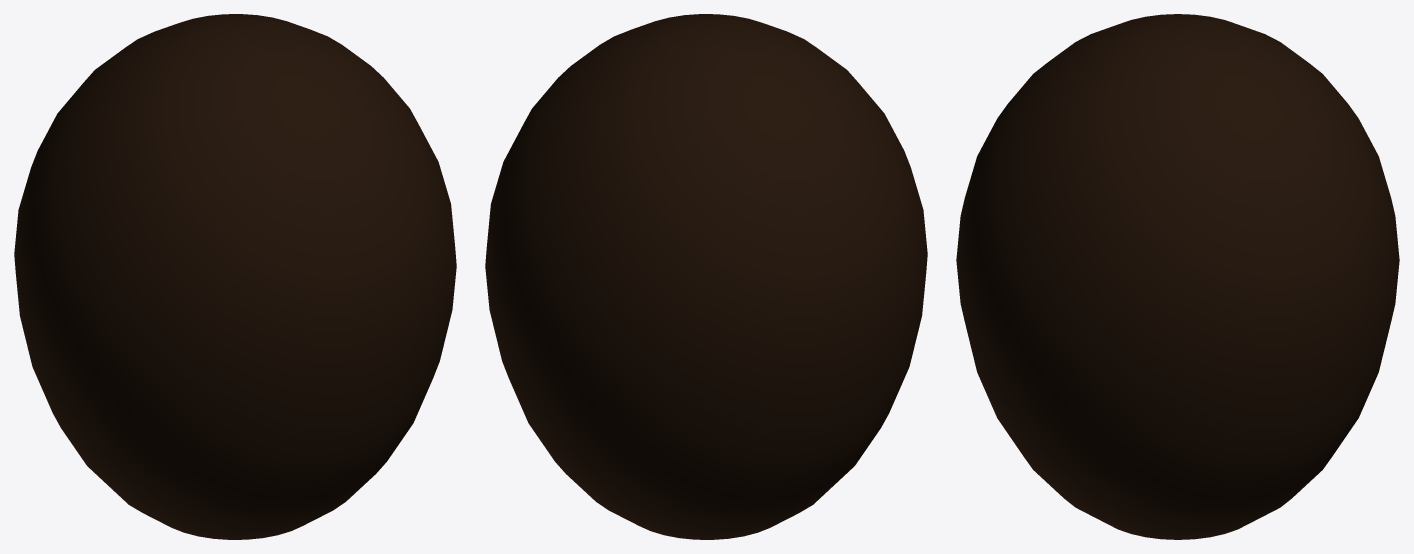
File: coconut.FBX
The picture shows the model from 3 angles, left to right: view 1: azimuth 30°, elevation 25°; view 2: azimuth 150°, elevation 25°; view 3: azimuth 270°, elevation 25°; orthographic projection.
Visible parts, largest first — view 1: Sphere001; view 2: Sphere001; view 3: Sphere001.
Part boxes in pixels (bbox=[...]): Sphere001: bbox=[14, 14, 456, 539]; Sphere001: bbox=[485, 14, 927, 539]; Sphere001: bbox=[956, 14, 1399, 539].
Bounding box in the file's own units: 44.93 × 55.08 × 44.93.
